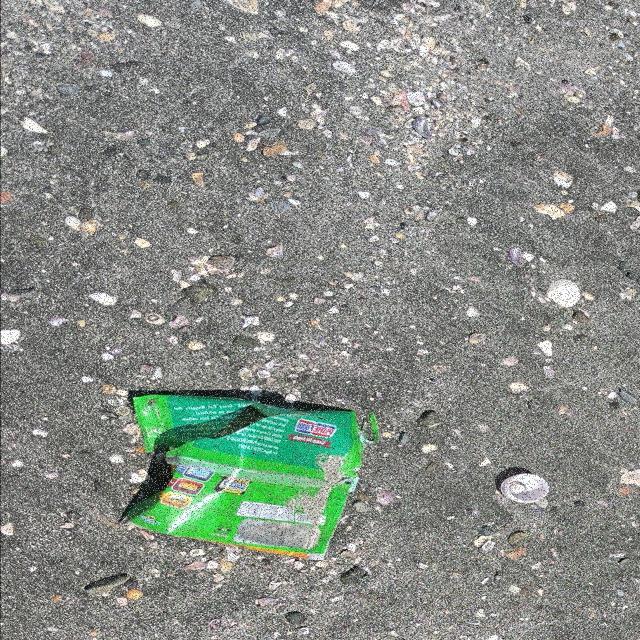plastic_waste: (117, 395, 367, 562)
